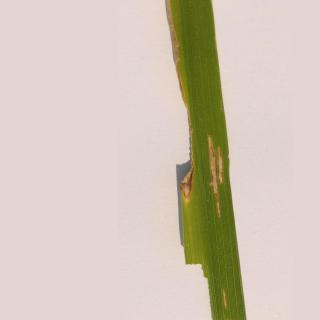Hawar-Daun: (150, 0, 202, 211), (197, 129, 231, 219), (212, 276, 238, 320)
